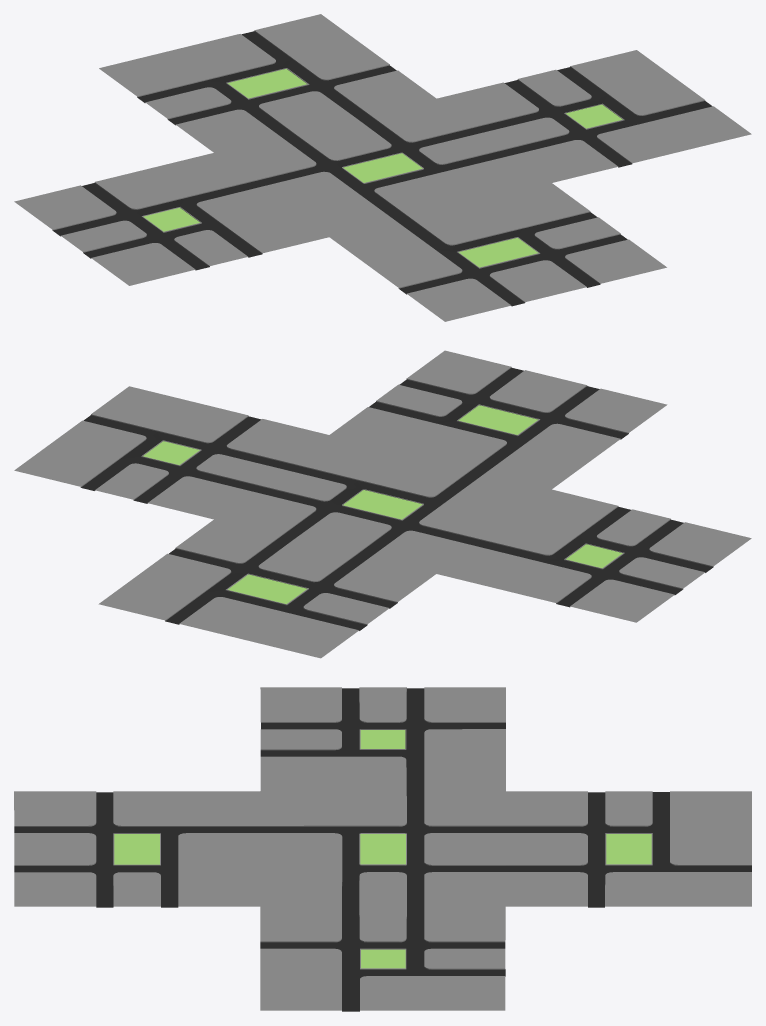
The model's file is Ground.fbx.
The picture shows the model from 3 angles, top to bottom: view 1: azimuth 30°, elevation 25°; view 2: azimuth 150°, elevation 25°; view 3: azimuth 270°, elevation 25°; orthographic projection. The views are drawn at different scales.
Visible parts, largest first — view 1: Plane; view 2: Plane; view 3: Plane.
Part boxes in pixels (box(x1,y1,x2,y2)): Plane: box(14, 14, 751, 321); Plane: box(14, 350, 751, 658); Plane: box(14, 687, 751, 1011).
Size of the model in its own units: 12246 by 16.9 by 11806.
